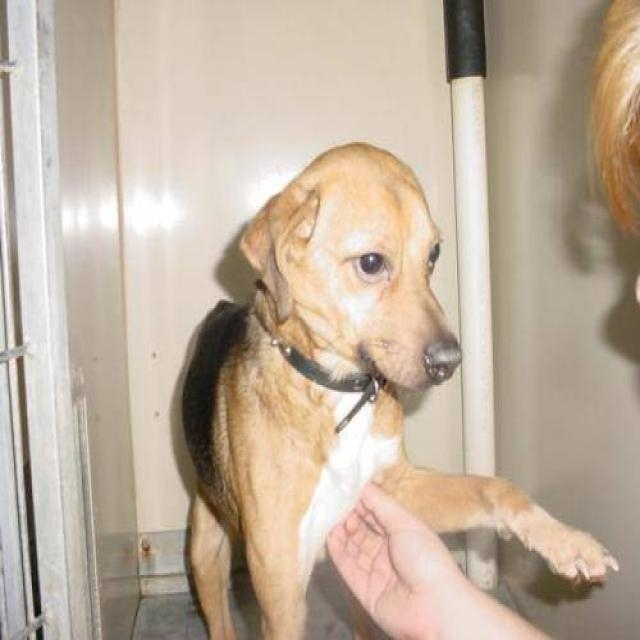dog: (176, 139, 620, 638)
